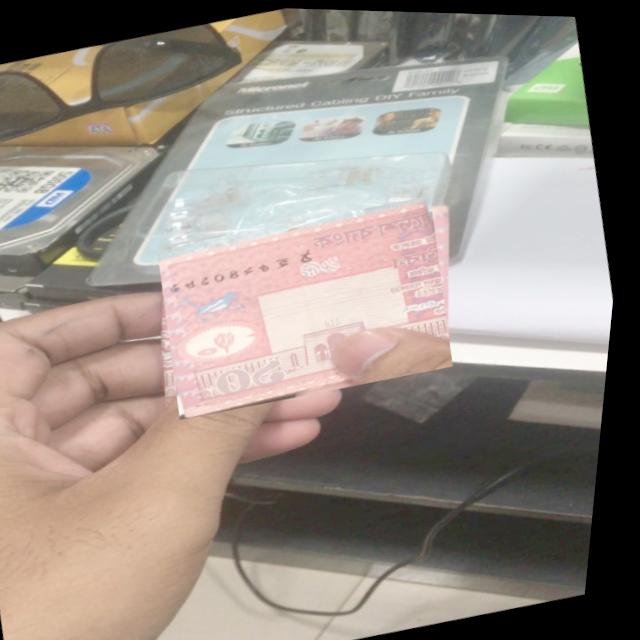Taka: (150, 186, 473, 424)
